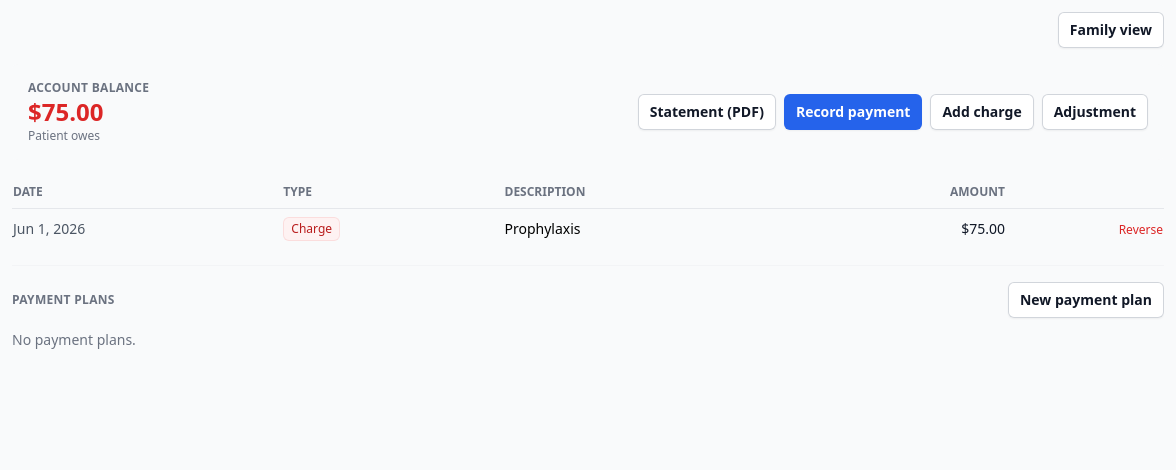
Test: LedgerTab family view › toggles to the combined family ledger with member chips and total
The image size is (1176, 470).
Click the button "Family view" at (1111, 30), box [1058,12,1164,48]
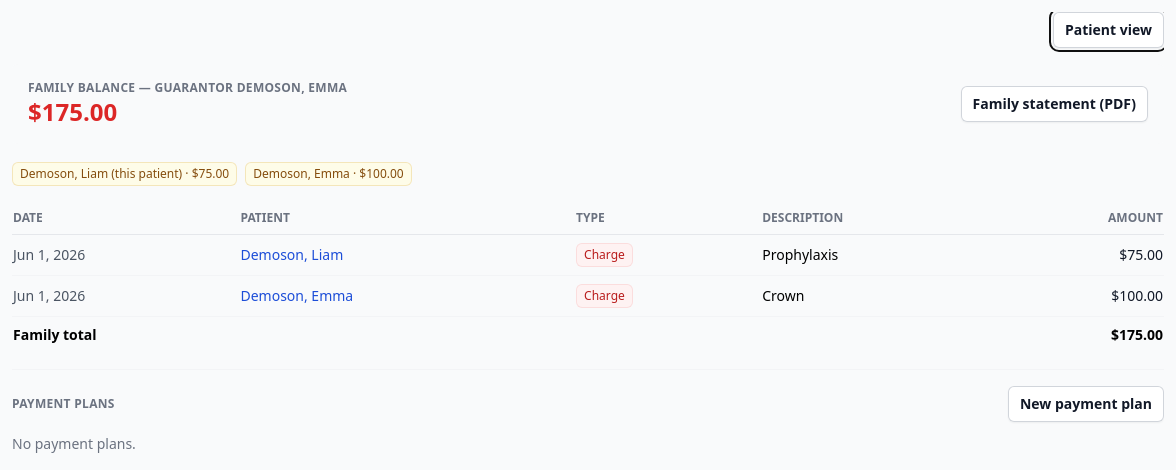
Now the element with test id "family-members" shows "Demoson, Emma", box [245,160,412,186]
Now the element with test id "family-members" shows "Demoson, Liam (this patient)", box [12,162,412,186]
Now the column heading "Patient" is shown, box [240,202,575,234]
// Toggle back restores the single-patient ledger
Click the button "Patient view" at (1108, 30), box [1053,12,1164,48]
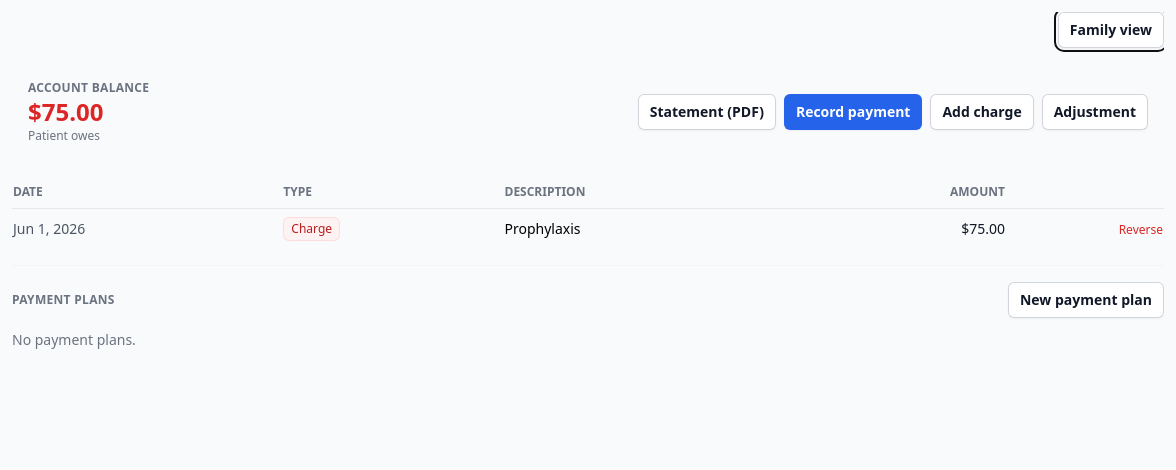
Now the text "Account balance" is shown, box [28,80,149,96]
